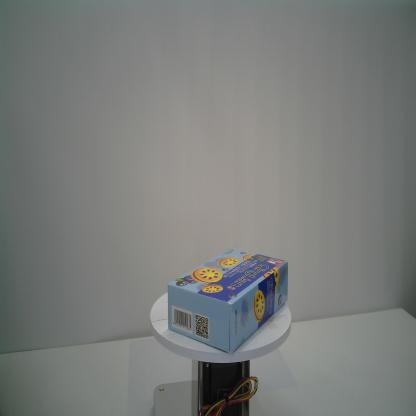Dessert: (167, 246, 289, 356)
